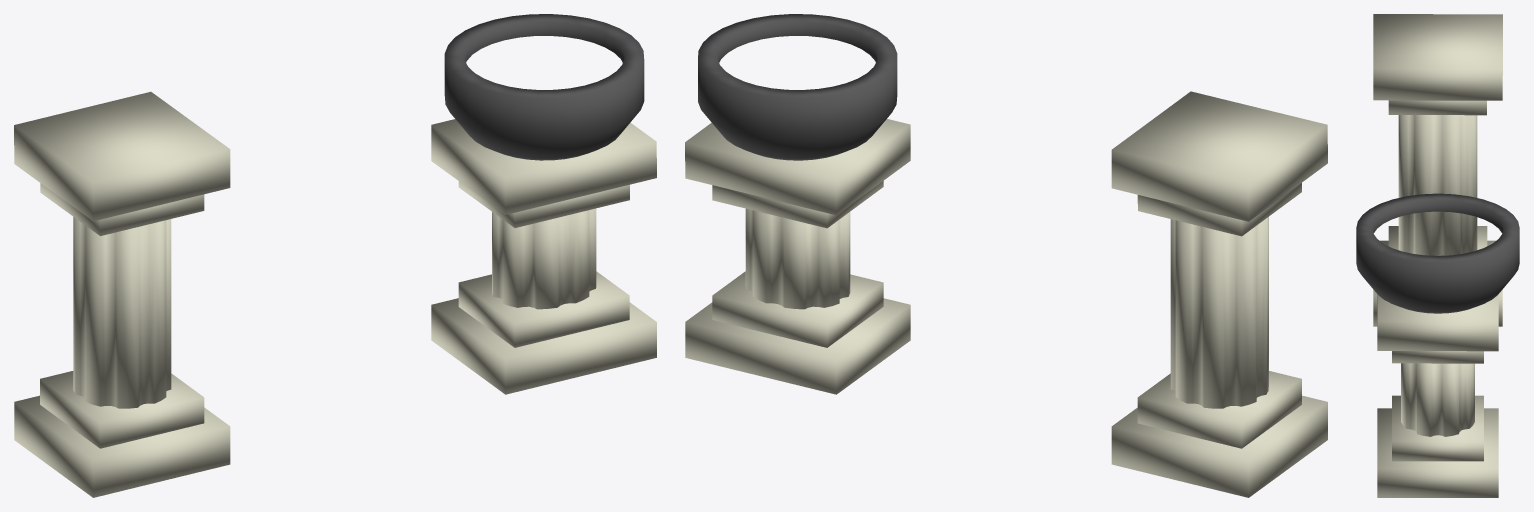
File: r_pillars.glb
3 renders of one model, left to right at view 1: azimuth 30°, elevation 25°; view 2: azimuth 150°, elevation 25°; view 3: azimuth 270°, elevation 25°, orthographic. The views are drawn at different scales.
Parts seen in each view (by area): view 1: Cube, Cube.001, Cylinder.002, Cylinder, Cylinder.001; view 2: Cube, Cube.001, Cylinder.002, Cylinder, Cylinder.001; view 3: Cube.001, Cube, Cylinder.002, Cylinder, Cylinder.001.
Boxes of the visible parts, x1=… form: Cube: x1=14, y1=91, x2=230, y2=497; Cube.001: x1=431, y1=119, x2=656, y2=394; Cylinder.002: x1=444, y1=14, x2=644, y2=160; Cylinder: x1=73, y1=217, x2=171, y2=408; Cylinder.001: x1=492, y1=208, x2=596, y2=309; Cube: x1=1111, y1=91, x2=1327, y2=497; Cube.001: x1=685, y1=119, x2=910, y2=394; Cylinder.002: x1=698, y1=14, x2=897, y2=160; Cylinder: x1=1170, y1=217, x2=1268, y2=408; Cylinder.001: x1=745, y1=208, x2=850, y2=309; Cube.001: x1=1377, y1=294, x2=1498, y2=497; Cube: x1=1373, y1=14, x2=1502, y2=326; Cylinder.002: x1=1356, y1=193, x2=1519, y2=313; Cylinder: x1=1398, y1=115, x2=1477, y2=255; Cylinder.001: x1=1401, y1=363, x2=1474, y2=436.
Size of the model in its own units: 8.43 by 4.4 by 2.53.
